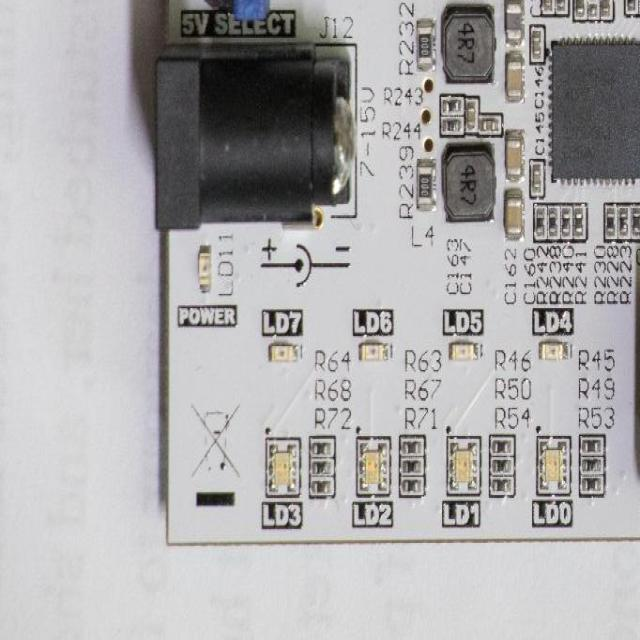IC: (547, 36, 640, 182)
LED: (356, 434, 391, 494), (448, 432, 480, 494), (266, 438, 300, 495), (538, 436, 570, 492), (266, 340, 306, 360), (198, 244, 212, 292), (538, 339, 568, 359), (358, 343, 389, 362), (449, 340, 478, 359)
capacitor: (503, 186, 525, 240), (504, 126, 525, 182), (504, 0, 524, 49), (504, 51, 523, 102), (529, 22, 545, 64), (478, 112, 502, 136), (464, 94, 478, 132), (530, 160, 544, 198), (598, 0, 613, 20), (574, 0, 586, 21), (542, 0, 554, 14), (639, 0, 640, 14)
connector: (153, 42, 355, 229), (202, 0, 232, 8)
inductor: (441, 140, 496, 220), (440, 4, 495, 83)
jumper: (232, 0, 271, 20)
pads: (586, 0, 600, 21)
resistor: (416, 18, 434, 70), (416, 156, 434, 208), (488, 474, 514, 497), (616, 203, 632, 239), (489, 434, 515, 456), (580, 434, 605, 456), (439, 114, 465, 135), (574, 202, 588, 240), (580, 474, 605, 495), (399, 476, 425, 496), (534, 203, 548, 239), (399, 435, 425, 454), (578, 456, 604, 475), (604, 201, 616, 241), (310, 437, 335, 456), (310, 476, 335, 495), (399, 456, 425, 474), (560, 201, 572, 239), (548, 201, 560, 238), (439, 97, 464, 114), (310, 457, 334, 474), (489, 456, 513, 472), (631, 202, 640, 237), (554, 0, 568, 14), (625, 0, 638, 15)
